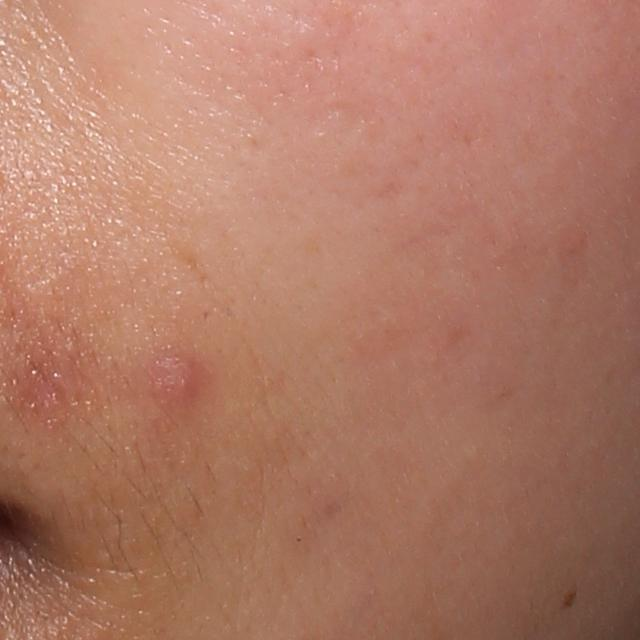nevus: (562, 586, 578, 610)
papule: (147, 354, 202, 411)
